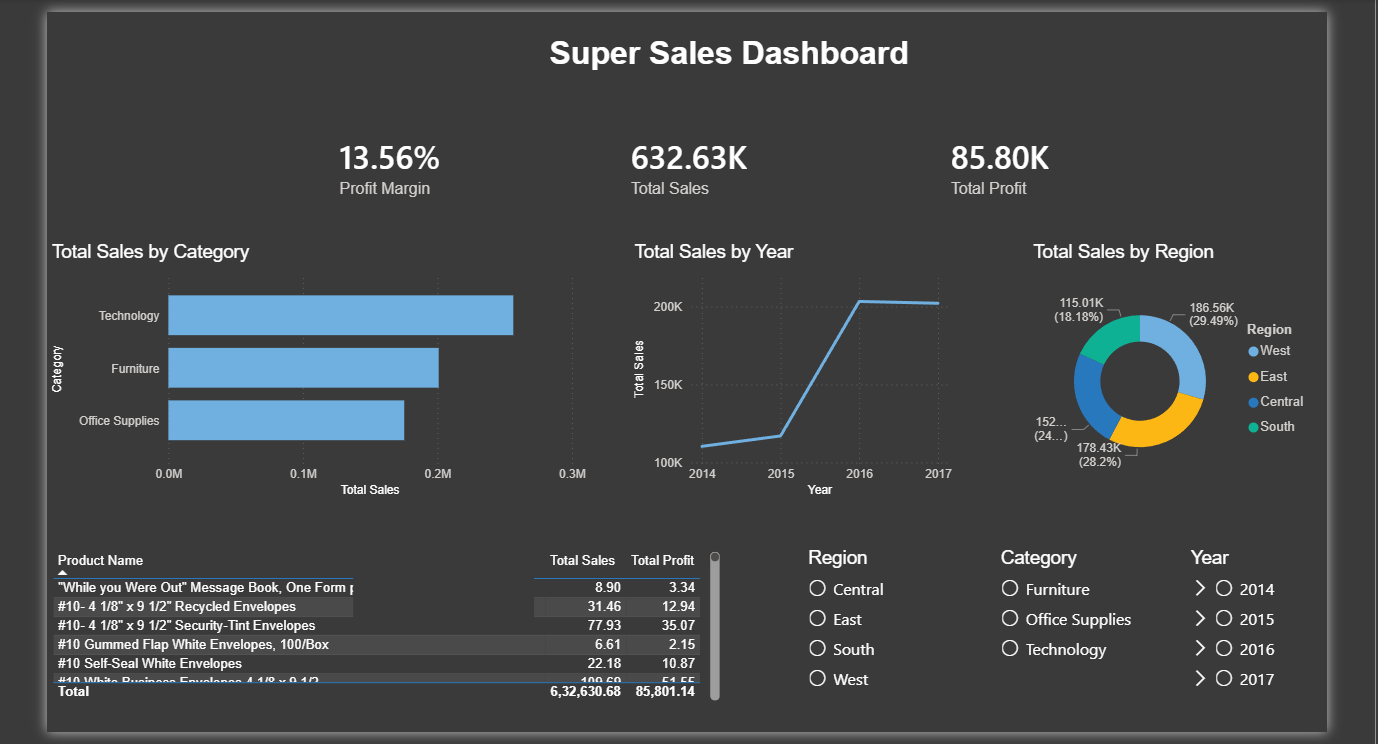

Layout of this report page (visuals, bound fields, positions):
{"tool":"powerbi","page":{"name":"Page 1","canvas":[1280,720],"ordinal":0},"visuals":[{"type":"cardVisual","fields":{"Data":["Sample - Superstore.Total Sales"]},"box":[553.9,102.7,192,101.5],"z":0},{"type":"cardVisual","fields":{"Data":["Sample - Superstore.Total Profit"]},"box":[874.3,102.7,174.9,101.5],"z":1000},{"type":"cardVisual","fields":{"Data":["Sample - Superstore.Profit Margin"]},"box":[262.9,102.7,203,101.5],"z":2000},{"type":"clusteredBarChart","fields":{"Category":["Sample - Superstore.Category"],"Y":["Sample - Superstore.Total Sales"]},"box":[0,228.7,544.2,260.5],"z":3000},{"type":"lineChart","fields":{"Category":["Sample - Superstore.Order Date.Variation.Date Hierarchy.Year","Sample - Superstore.Order Date.Variation.Date Hierarchy.Quarter","Sample - Superstore.Order Date.Variation.Date Hierarchy.Month","Sample - Superstore.Order Date.Variation.Date Hierarchy.Day"],"Y":["Sample - Superstore.Total Sales"]},"box":[582.1,228.7,327.7,260.5],"z":4000},{"type":"donutChart","fields":{"Category":["Sample - Superstore.Region"],"Y":["Sample - Superstore.Total Sales"]},"box":[980.7,228.7,289.8,260.5],"z":5000},{"type":"tableEx","fields":{"Values":["Sample - Superstore.Product Name","Sample - Superstore.Total Sales","Sample - Superstore.Total Profit"]},"box":[0,534.4,677.4,159],"z":6000},{"type":"listSlicer","fields":{"Values":["Sample - Superstore.Region"]},"box":[755.7,534.4,138.2,159],"z":6001},{"type":"listSlicer","fields":{"Values":["Sample - Superstore.Category"]},"box":[948.9,534.4,155.3,159],"z":6002},{"type":"listSlicer","fields":{"Values":["Sample - Superstore.Order Date.Variation.Date Hierarchy.Year","Sample - Superstore.Order Date.Variation.Date Hierarchy.Quarter","Sample - Superstore.Order Date.Variation.Date Hierarchy.Month","Sample - Superstore.Order Date.Variation.Date Hierarchy.Day"]},"box":[1138.5,534.4,106.4,159],"z":6003},{"type":"textbox","box":[305.7,557.6,181,52.6],"z":6004},{"type":"textbox","box":[497.7,18.3,423.1,66],"z":6005}]}

Visuals, with their boxes on the page's 1280x720 design canvas (x1, y1, x2, y2). These are canvas units, not pixel positions in the 1378x744 screenshot, which may show the page scaled, cropped or inside an application window:
cardVisual - Sample - Superstore.Total Sales: box(554, 103, 746, 204)
cardVisual - Sample - Superstore.Total Profit: box(874, 103, 1049, 204)
cardVisual - Sample - Superstore.Profit Margin: box(263, 103, 466, 204)
clusteredBarChart - Sample - Superstore.Category x Sample - Superstore.Total Sales: box(0, 229, 544, 489)
lineChart - Sample - Superstore.Order Date.Variation.Date Hierarchy.Year x Sample - Superstore.Order Date.Variation.Date Hierarchy.Quarter: box(582, 229, 910, 489)
donutChart - Sample - Superstore.Region x Sample - Superstore.Total Sales: box(981, 229, 1270, 489)
tableEx - Sample - Superstore.Product Name x Sample - Superstore.Total Sales: box(0, 534, 677, 693)
listSlicer - Sample - Superstore.Region: box(756, 534, 894, 693)
listSlicer - Sample - Superstore.Category: box(949, 534, 1104, 693)
listSlicer - Sample - Superstore.Order Date.Variation.Date Hierarchy.Year x Sample - Superstore.Order Date.Variation.Date Hierarchy.Quarter: box(1138, 534, 1245, 693)
textbox: box(306, 558, 487, 610)
textbox: box(498, 18, 921, 84)
